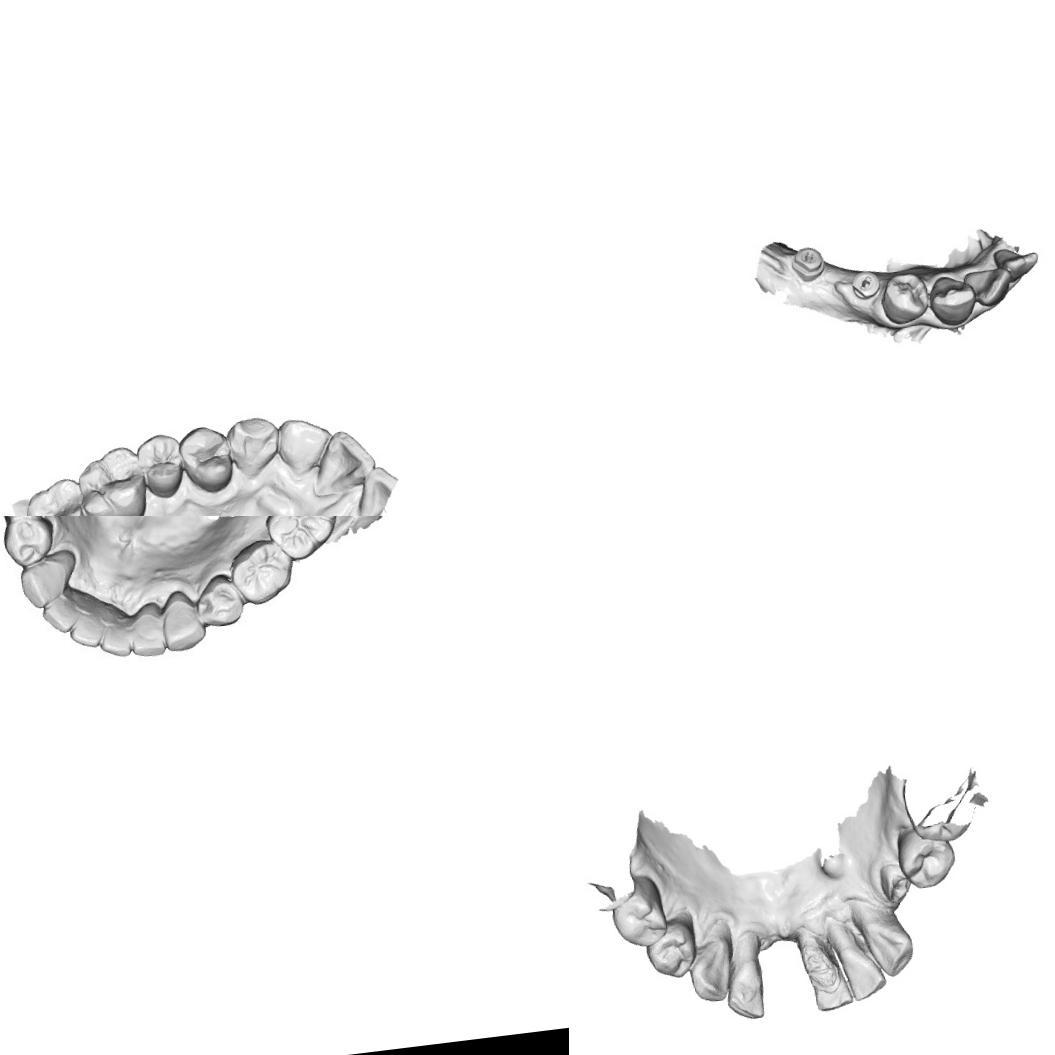canine: (854, 913, 922, 983), (224, 414, 284, 481), (684, 936, 740, 1006), (16, 548, 77, 610), (158, 591, 209, 654), (926, 272, 980, 328)
implant_minus: (789, 244, 827, 282), (849, 268, 882, 302)
incisor: (306, 426, 380, 499), (720, 929, 774, 1023), (824, 934, 890, 1006), (798, 938, 853, 1014), (274, 414, 336, 478), (124, 605, 173, 661), (960, 266, 1016, 310), (92, 610, 138, 662), (989, 243, 1041, 284), (36, 594, 84, 638), (64, 606, 104, 656)
molar: (74, 443, 151, 516), (260, 516, 341, 566), (19, 473, 93, 516)
premolar: (223, 536, 301, 610), (892, 820, 960, 893), (175, 422, 237, 497), (607, 887, 673, 953), (643, 914, 704, 984), (134, 430, 188, 502), (192, 572, 248, 632), (877, 269, 933, 326), (1, 516, 62, 568)
